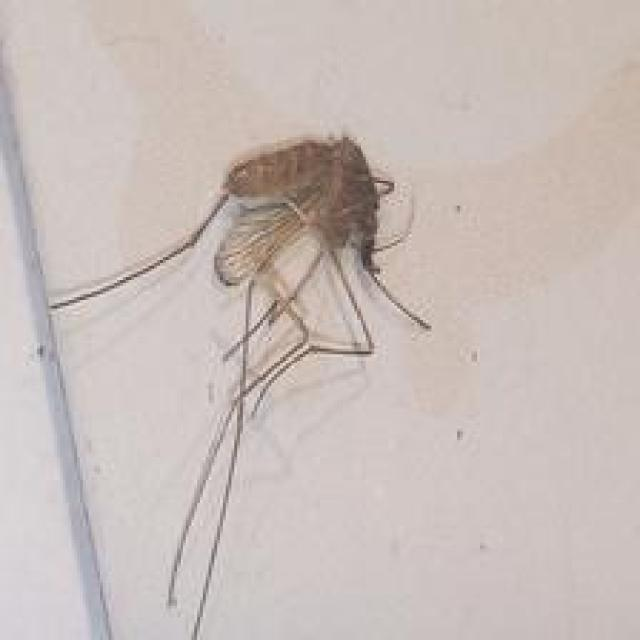Culex: (44, 131, 433, 640)
